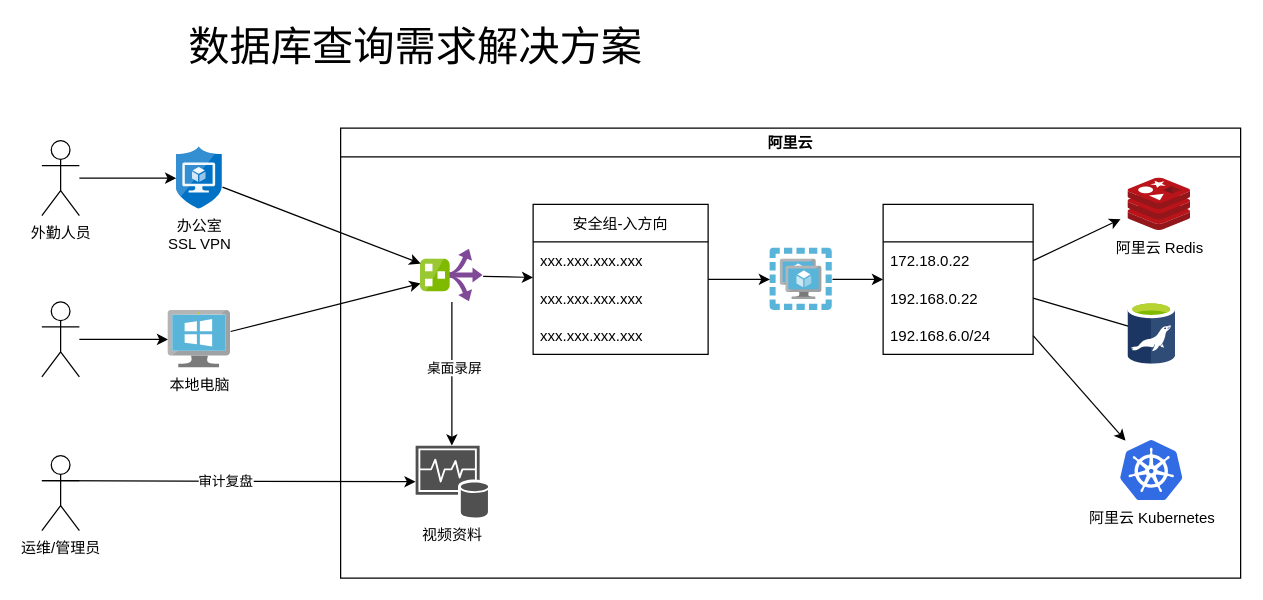
Image size: 1263x600. Some labels were removed from this diagram. Each missing label, with the box of its shape:
云桌面系统: (769, 248, 832, 310)
办公室员工: (41, 301, 79, 377)
安全组-出方向: (882, 203, 1033, 354)
阿里云 RDS 数据库: (1128, 301, 1175, 364)
阿里云堡垒机: (420, 249, 482, 301)
